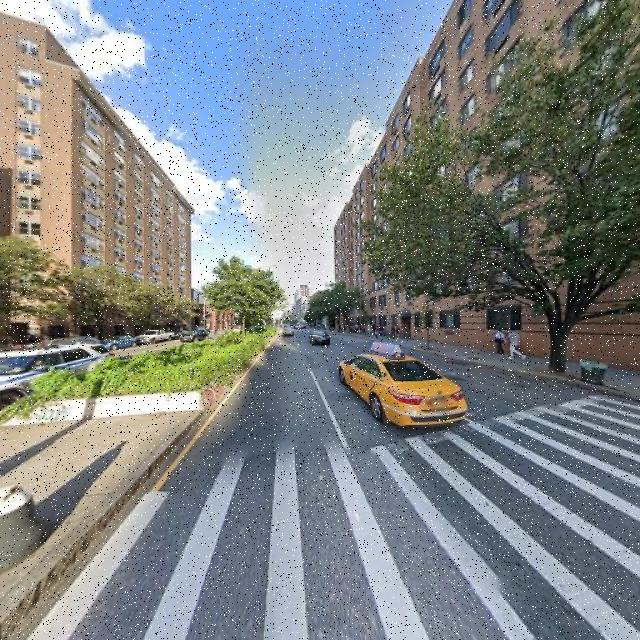Building: (339, 1, 640, 367), (1, 63, 190, 348)
